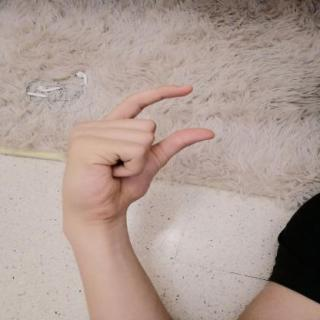DELL: (48, 78, 224, 229)
